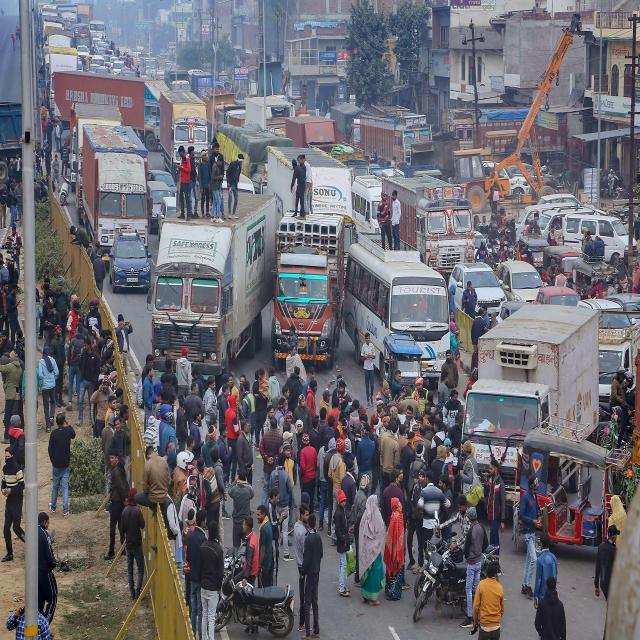autorickshaw: (519, 424, 630, 548), (384, 334, 422, 384), (572, 257, 618, 292), (542, 246, 580, 276)
bus: (344, 234, 450, 384)
car: (560, 210, 629, 266), (449, 262, 506, 313), (110, 231, 150, 292), (498, 261, 542, 302), (148, 180, 171, 234)
motorcycle: (215, 559, 294, 638), (412, 549, 468, 622)
truck: (151, 195, 275, 375), (464, 306, 599, 463), (454, 94, 552, 214), (270, 216, 344, 368), (382, 176, 475, 279), (54, 71, 169, 150), (81, 124, 150, 251), (160, 92, 208, 174), (360, 114, 432, 163)
